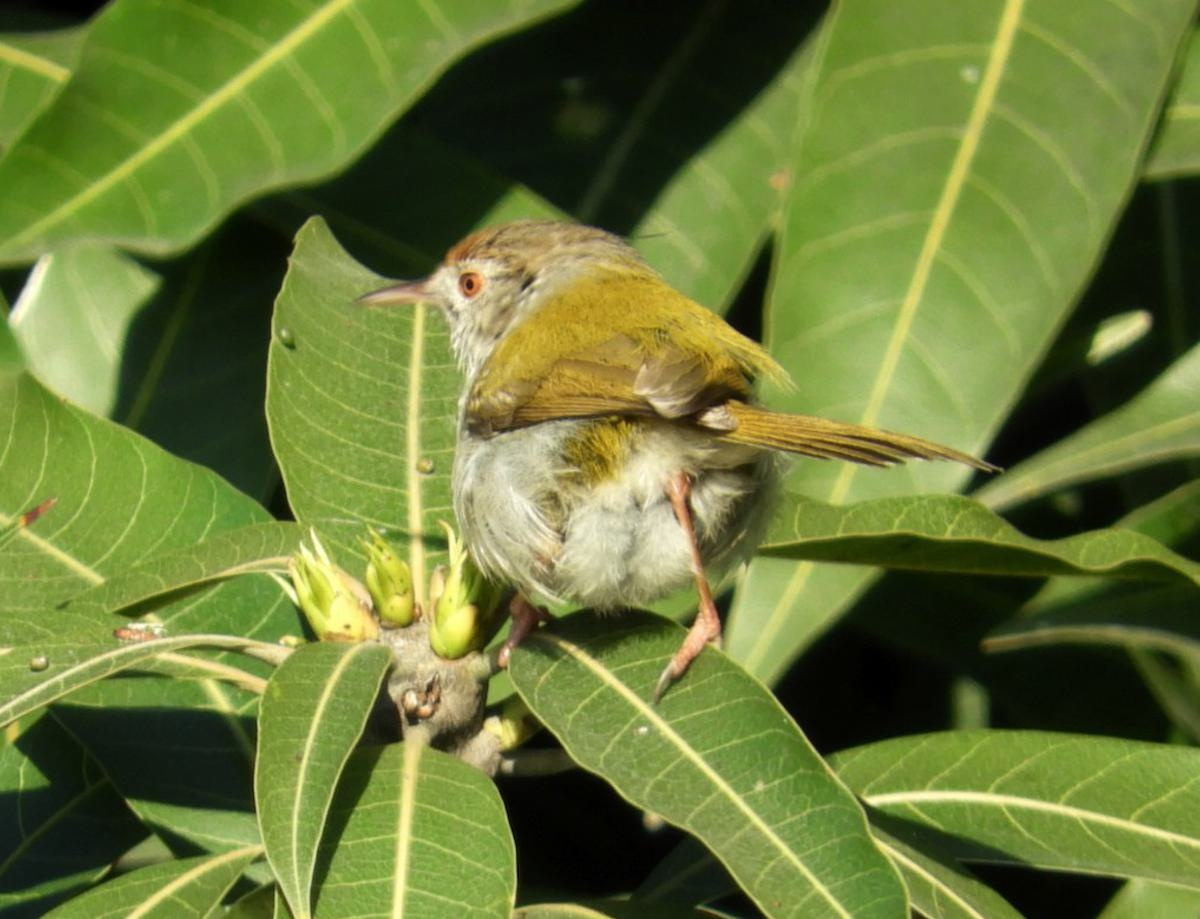tailorbird: (361, 194, 974, 696)
